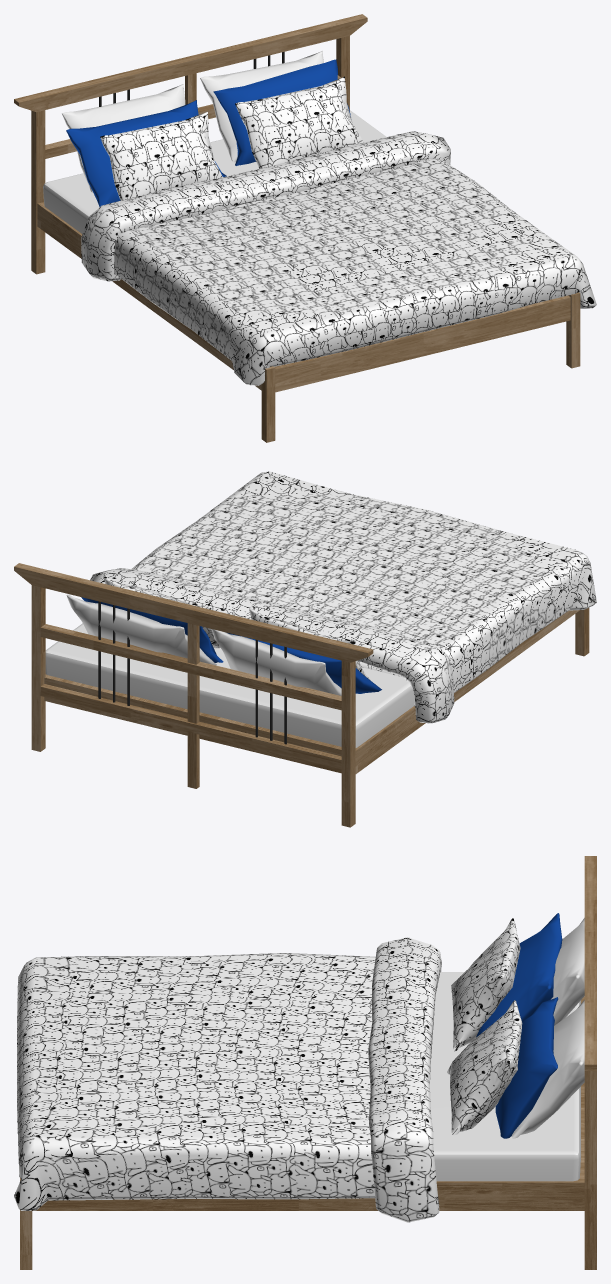
The model's file is bed_017.fbx.
3 views of the same model, one above another, from view 1: azimuth 30°, elevation 25°; view 2: azimuth 150°, elevation 25°; view 3: azimuth 270°, elevation 25° (orthographic). The views are drawn at different scales.
Visible parts, largest first — view 1: bed_017; view 2: bed_017; view 3: bed_017.
Boxes of the visible parts, x1,y1,x2,y2 form: bed_017: (14,14,596,442); bed_017: (14,471,596,827); bed_017: (14,856,596,1269).
Size of the model in its own units: 249 by 291 by 119.
